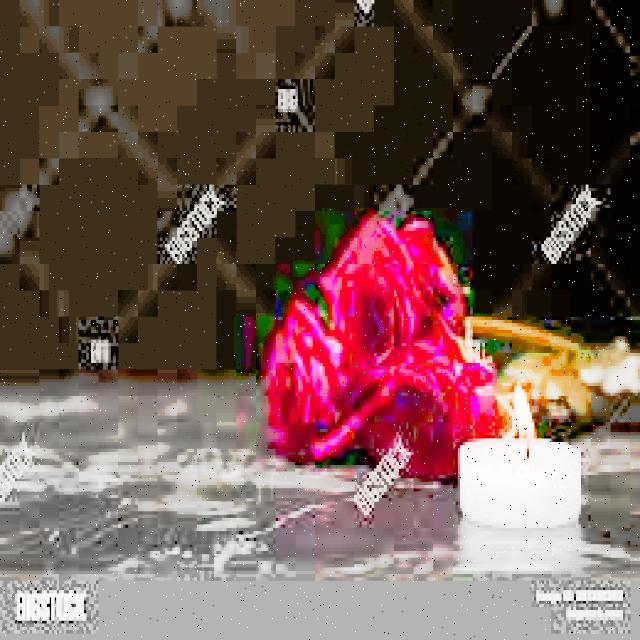api: (503, 374, 543, 446)
